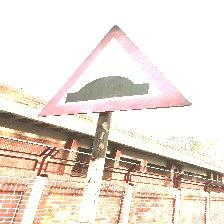Speed-breaker: (54, 18, 185, 111)
